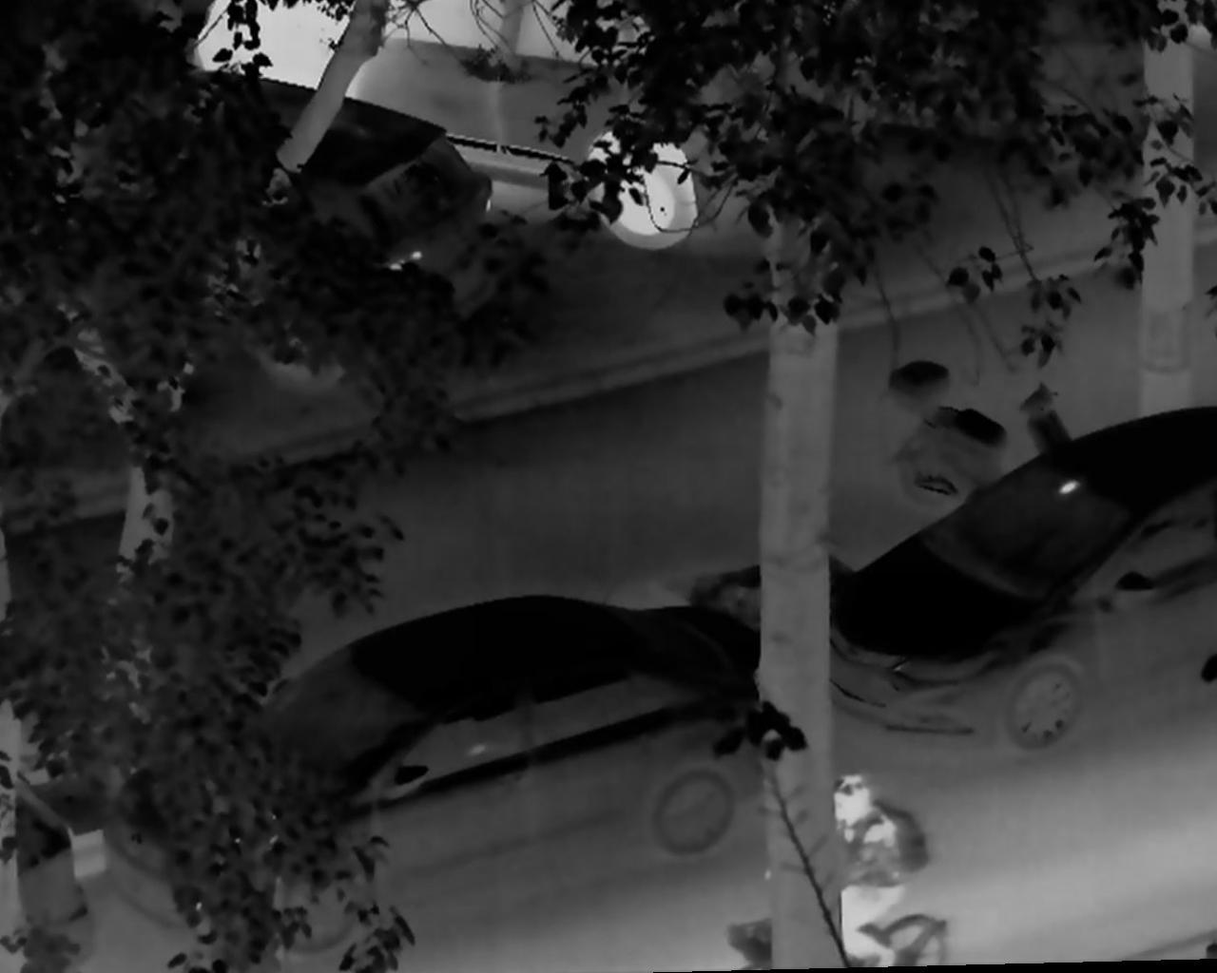person: (826, 769, 907, 967)
